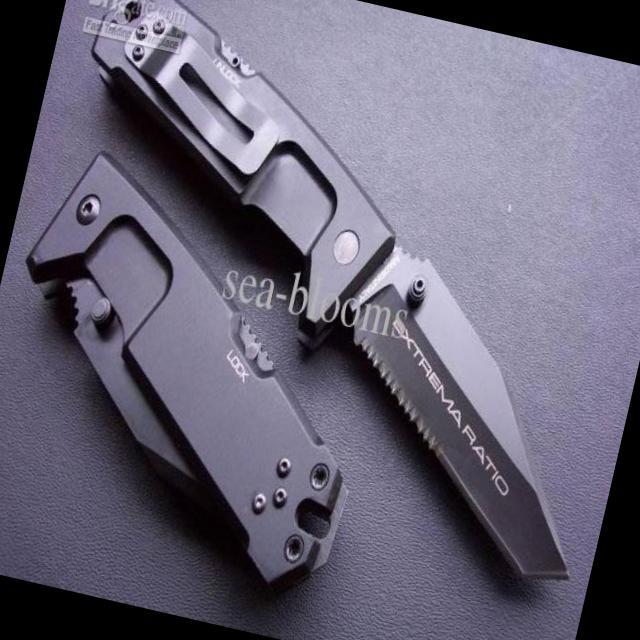Knife: (289, 222, 640, 613)
